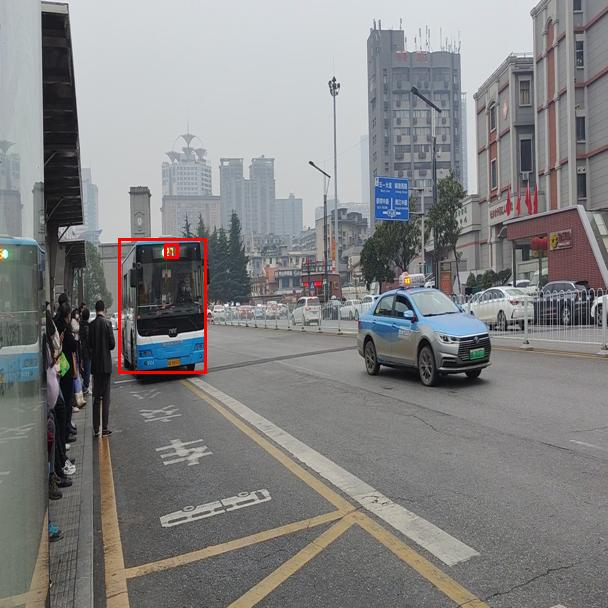bus: (118, 238, 206, 373)
screen: (164, 243, 178, 258)
